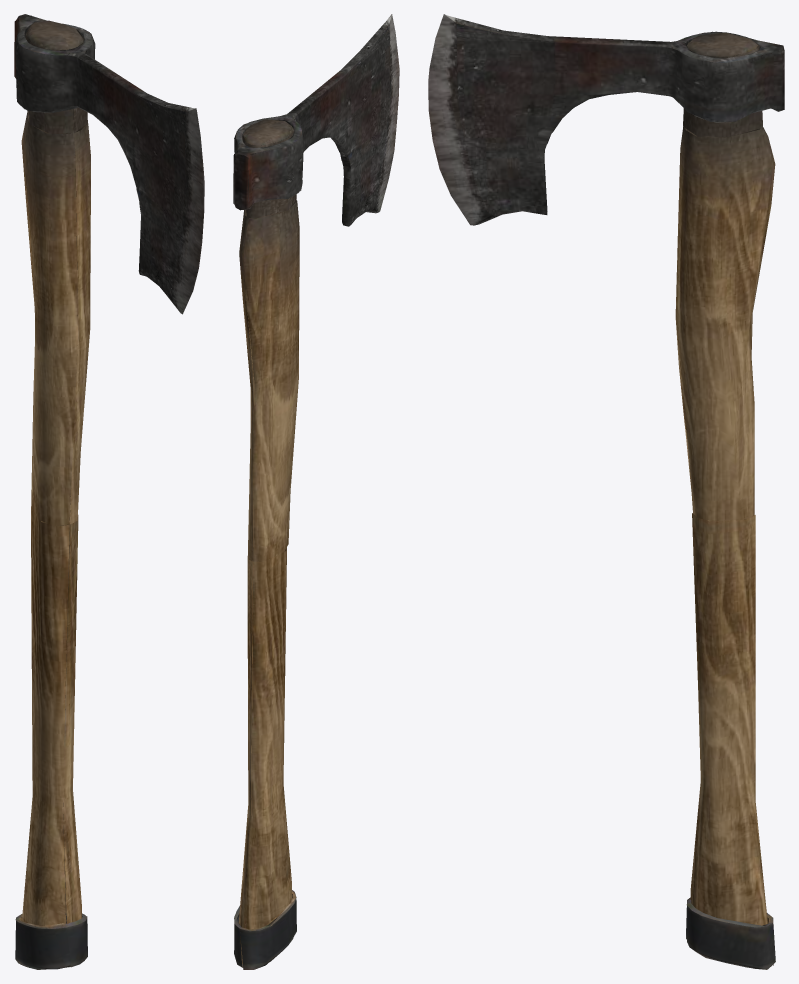
Rendered from wooden_axe.glb.
3 views of the same model, side by side, from view 1: azimuth 30°, elevation 25°; view 2: azimuth 150°, elevation 25°; view 3: azimuth 270°, elevation 25° (orthographic). The views are drawn at different scales.
Parts seen in each view (by area): view 1: wooden_axe; view 2: wooden_axe; view 3: wooden_axe.
Part boxes in pixels (x1,y1,x2,y2): wooden_axe: (14, 14, 204, 969); wooden_axe: (233, 14, 399, 969); wooden_axe: (428, 14, 784, 969).
Bounding box in the file's own units: 0.0479 × 0.6308 × 0.2143.
Materials: 1 (1 with a texture image).
